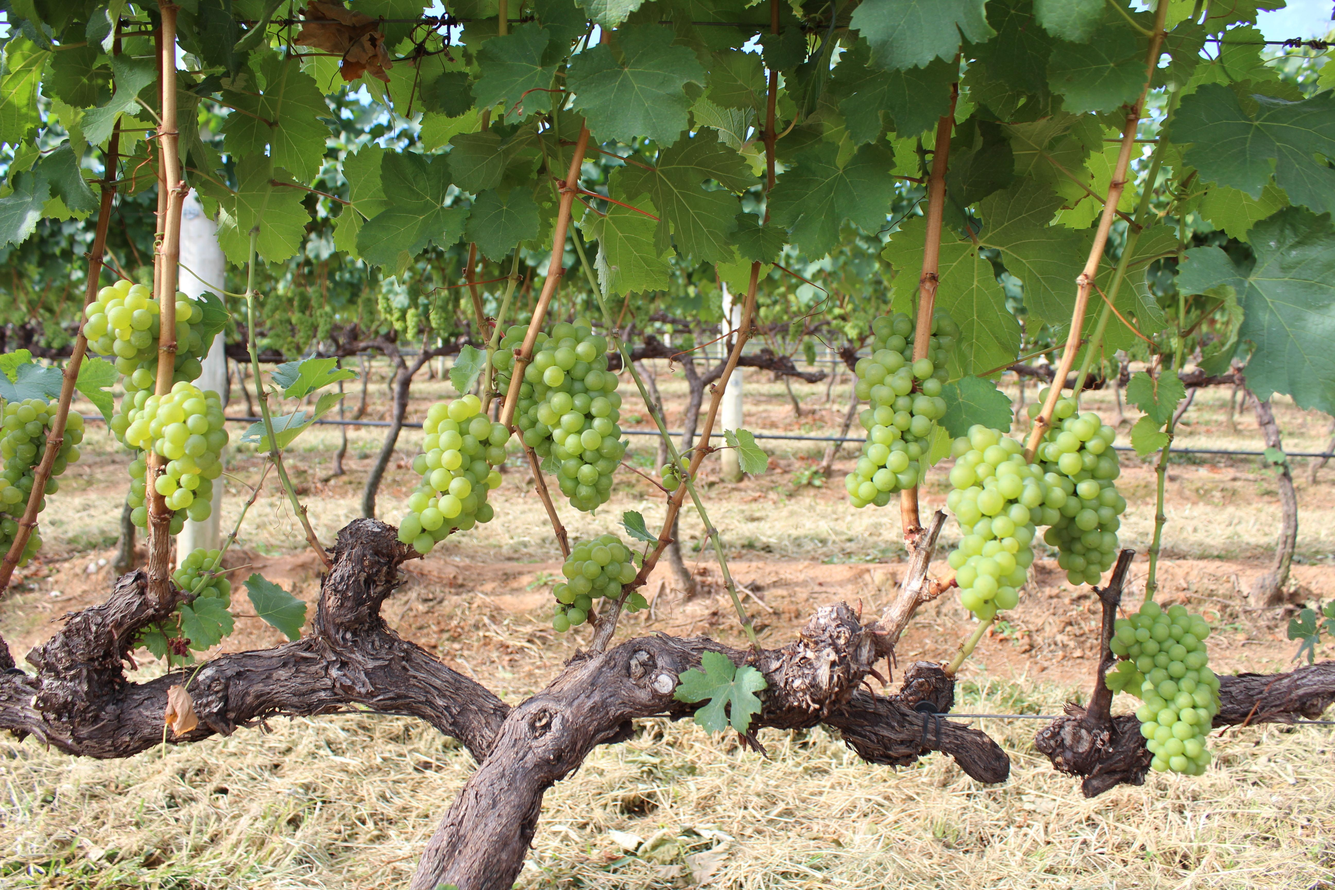leaf: (1177, 207, 1335, 413), (1171, 84, 1335, 212), (611, 131, 755, 261), (567, 25, 705, 145), (769, 142, 896, 258), (222, 54, 330, 182), (833, 42, 957, 144), (218, 155, 310, 265), (850, 0, 992, 69), (583, 195, 670, 296), (1047, 26, 1145, 113), (472, 22, 558, 121), (674, 651, 767, 733), (82, 55, 157, 144), (0, 36, 52, 144), (464, 189, 540, 260), (940, 376, 1014, 437), (271, 392, 345, 449), (40, 143, 99, 213), (245, 573, 306, 640), (0, 169, 50, 247), (449, 130, 506, 194), (272, 358, 357, 398), (1125, 371, 1186, 426), (1033, 0, 1106, 43), (75, 356, 119, 423), (180, 597, 234, 651), (0, 362, 62, 402), (724, 429, 768, 475), (449, 344, 486, 395), (579, 0, 644, 28), (1130, 415, 1171, 456), (621, 510, 657, 542), (241, 421, 270, 448), (859, 7, 862, 10), (1165, 0, 1167, 2), (832, 146, 833, 148), (90, 137, 91, 138)
